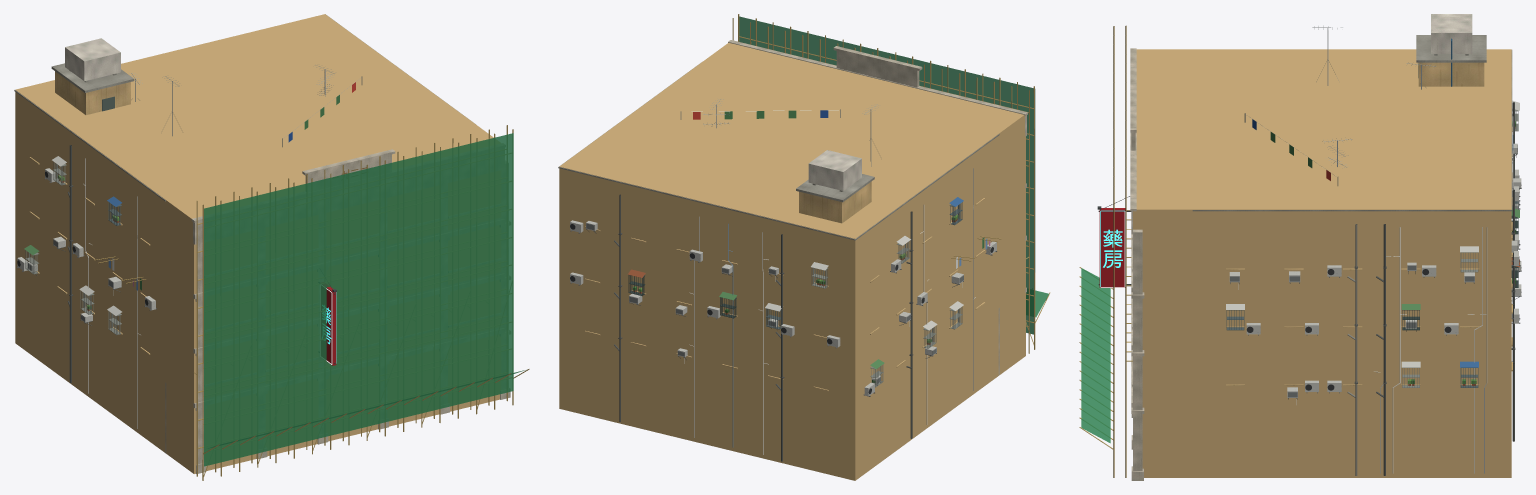
File: verandah-tonglau.glb
The picture shows the model from 3 angles, left to right: view 1: azimuth 30°, elevation 25°; view 2: azimuth 150°, elevation 25°; view 3: azimuth 270°, elevation 25°; orthographic projection. The views are drawn at different scales.
Visible parts, largest first — view 1: LOD_vc, Scaffold_net, Building_column, Scaffold_bamboo, Building_metal, Building_vc, Building_wall, Building_tank, Building_slab, Building_ac, Building_board; view 2: LOD_vc, Scaffold_net, Building_vc, Building_metal, Building_column, Scaffold_bamboo, Building_wall, Building_ac, Building_slab, Building_tank; view 3: LOD_vc, Building_vc, Scaffold_net, Building_column, Building_metal, Building_wall, Building_ac, Scaffold_bamboo, Building_slab, Building_board, Building_tank, Building_neon_cyan.
Boxes of the visible parts, left/top/right/bottom form: LOD_vc: left=15, top=14, right=499, bottom=473; Scaffold_net: left=204, top=133, right=525, bottom=466; Building_column: left=165, top=149, right=510, bottom=473; Scaffold_bamboo: left=194, top=125, right=529, bottom=480; Building_metal: left=17, top=65, right=362, bottom=363; Building_vc: left=24, top=77, right=361, bottom=428; Building_wall: left=29, top=71, right=150, bottom=354; Building_tank: left=65, top=38, right=120, bottom=81; Building_slab: left=14, top=14, right=474, bottom=201; Building_ac: left=17, top=168, right=155, bottom=322; Building_board: left=326, top=167, right=366, bottom=365; LOD_vc: left=559, top=42, right=1025, bottom=480; Scaffold_net: left=739, top=16, right=1048, bottom=334; Building_vc: left=614, top=110, right=990, bottom=461; Building_metal: left=570, top=99, right=997, bottom=396; Building_column: left=728, top=40, right=1027, bottom=375; Scaffold_bamboo: left=732, top=14, right=1050, bottom=353; Building_wall: left=585, top=181, right=985, bottom=391; Building_ac: left=570, top=220, right=996, bottom=396; Building_slab: left=558, top=62, right=999, bottom=240; Building_tank: left=808, top=150, right=861, bottom=190; LOD_vc: left=1133, top=49, right=1511, bottom=477; Building_vc: left=1226, top=38, right=1519, bottom=475; Scaffold_net: left=1081, top=268, right=1110, bottom=443; Building_column: left=1130, top=48, right=1144, bottom=480; Building_metal: left=1097, top=25, right=1521, bottom=399; Building_wall: left=1226, top=62, right=1512, bottom=385; Building_ac: left=1229, top=143, right=1521, bottom=397; Scaffold_bamboo: left=1079, top=25, right=1132, bottom=477; Building_slab: left=1192, top=35, right=1512, bottom=211; Building_board: left=1099, top=208, right=1125, bottom=287; Building_tank: left=1431, top=14, right=1472, bottom=53; Building_neon_cyan: left=1100, top=210, right=1124, bottom=286.
Bounding box in the file's own units: 24.07 × 20.93 × 25.69.
18 materials, 6 textured.
